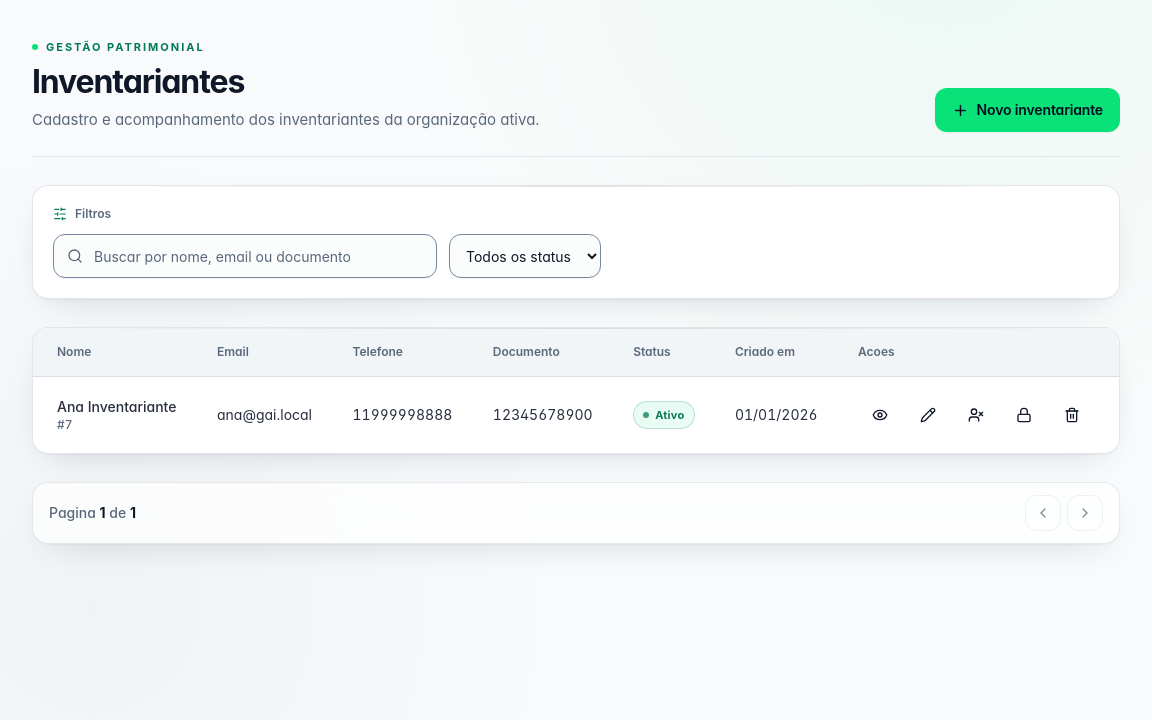
FieldAgentsPage › explica o campo opcional de usuario vinculado sem enviar o formulario
The image size is (1152, 720).
Click the button "Novo inventariante": (1027, 110) [935, 88, 1120, 132]
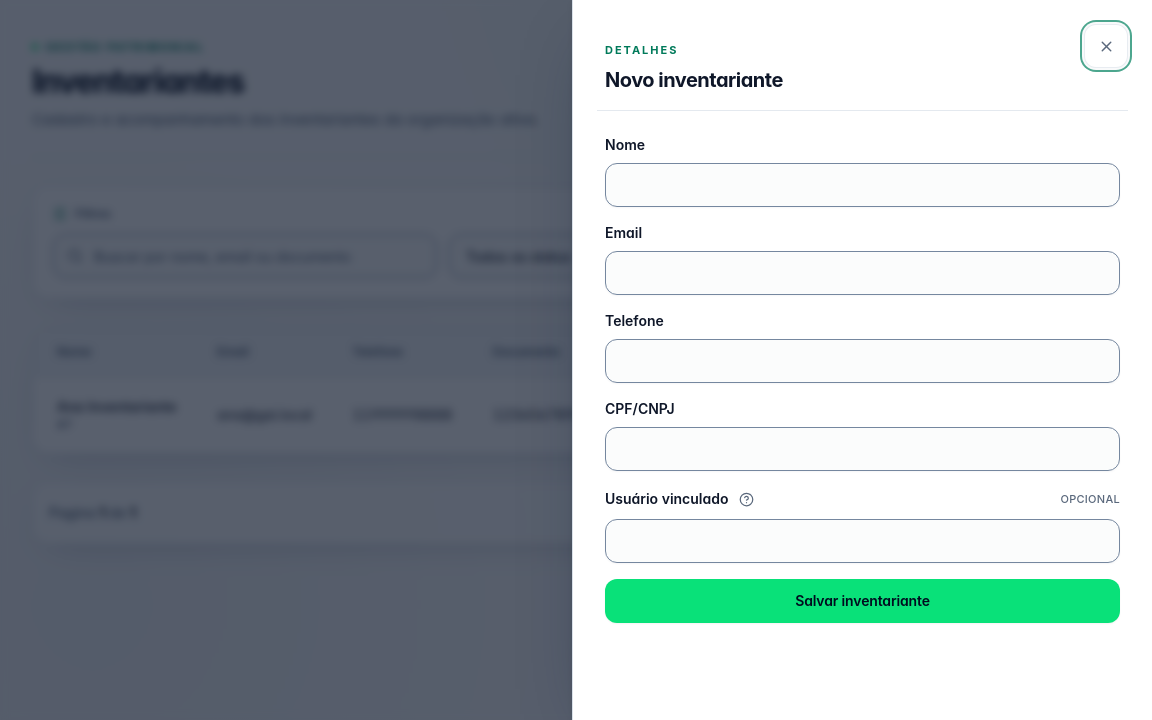
Check: the number field labelled "Usuário vinculado" is shown, box [605, 519, 1120, 563]
Check: the text "Opcional" is shown, box [1060, 489, 1120, 509]
Click the button named "Ajuda sobre Usuário vinculado": (746, 499) [734, 487, 758, 511]
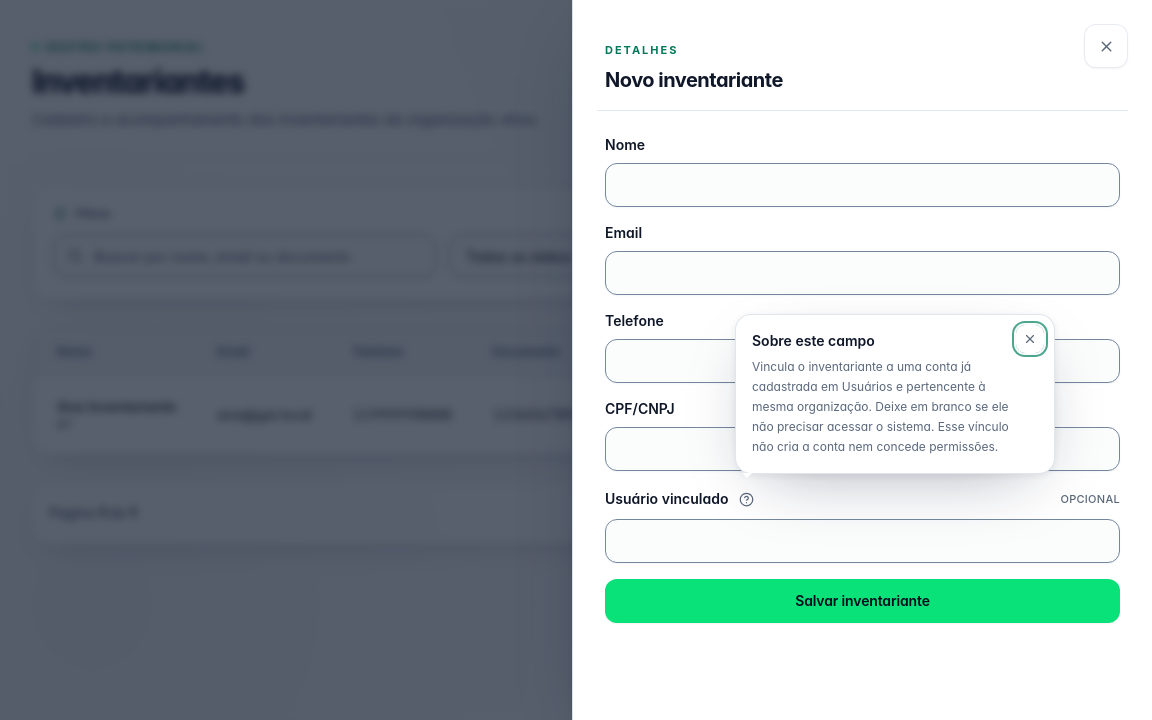
Check: the text "Vincula o inventariante a uma conta já cadastrada em Usuários" is shown, box [752, 359, 1009, 454]
